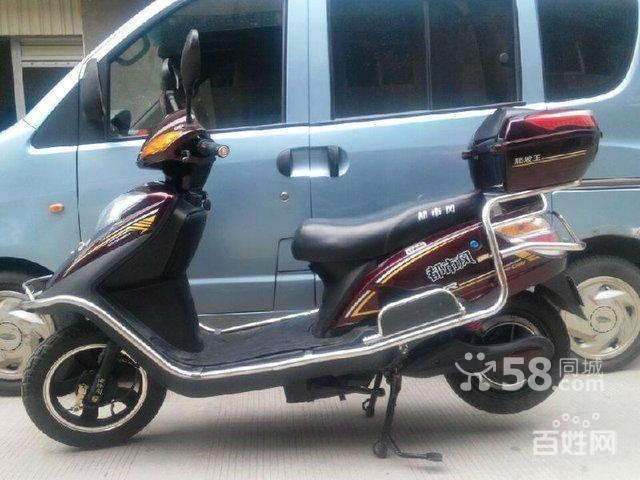电动车: (16, 29, 615, 471)
